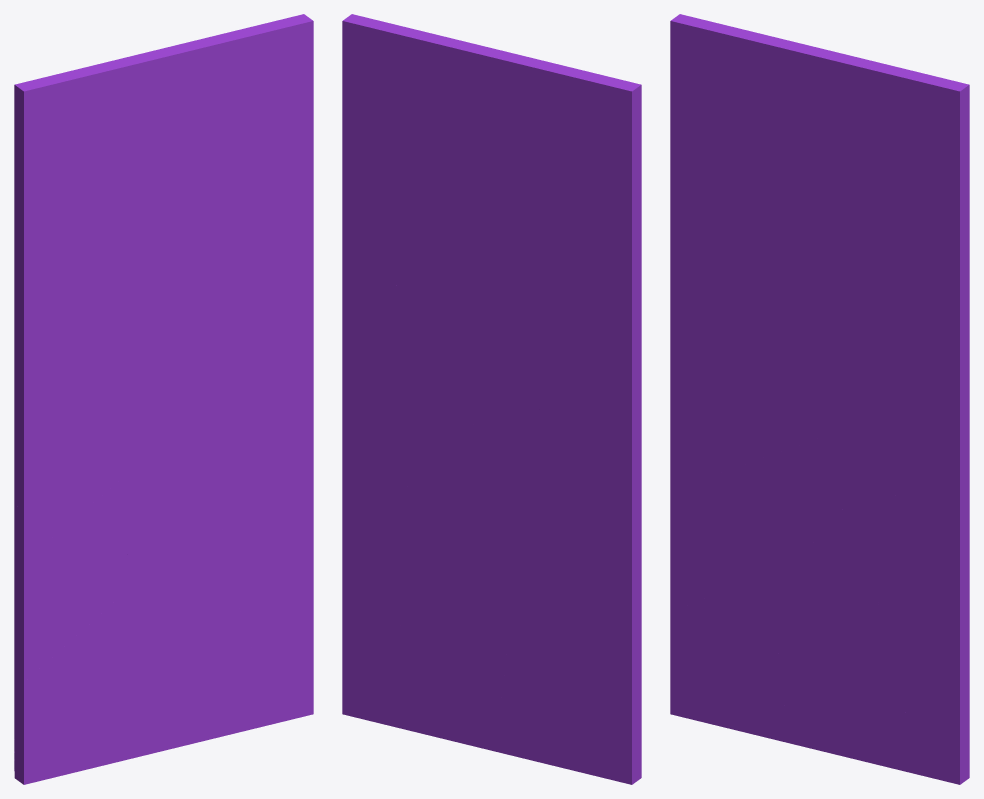
The model's file is Glass_19_chunks.fbx.
The picture shows the model from 3 angles, left to right: view 1: azimuth 30°, elevation 25°; view 2: azimuth 150°, elevation 25°; view 3: azimuth 330°, elevation 25°; orthographic projection.
Parts seen in each view (by area): view 1: Glass_19_9, Glass_19_12, Glass_19_3, Glass_19_0, Glass_19_8, Glass_19_2, Glass_19_7, Glass_19_10, Glass_19_1, Glass_19_5, Glass_19_11, Glass_19_4 (+1 smaller); view 2: Glass_19_9, Glass_19_12, Glass_19_2, Glass_19_3, Glass_19_4, Glass_19_8, Glass_19_11, Glass_19_6, Glass_19_10, Glass_19_1, Glass_19_5, Glass_19_0; view 3: Glass_19_9, Glass_19_12, Glass_19_3, Glass_19_8, Glass_19_7, Glass_19_0, Glass_19_10, Glass_19_2, Glass_19_1, Glass_19_5, Glass_19_11, Glass_19_4 (+1 smaller).
Boxes of the visible parts, box(x1,y1,x2,y2) form: Glass_19_9: box(57, 14, 313, 245); Glass_19_12: box(14, 74, 168, 383); Glass_19_3: box(122, 521, 278, 755); Glass_19_0: box(14, 385, 173, 560); Glass_19_8: box(234, 208, 313, 498); Glass_19_2: box(14, 595, 141, 784); Glass_19_7: box(221, 486, 313, 722); Glass_19_10: box(154, 184, 313, 395); Glass_19_1: box(14, 481, 133, 682); Glass_19_5: box(172, 314, 251, 537); Glass_19_11: box(14, 278, 154, 394); Glass_19_4: box(90, 435, 204, 562); Glass_19_9: box(342, 14, 588, 253); Glass_19_12: box(500, 71, 641, 376); Glass_19_2: box(495, 566, 641, 784); Glass_19_3: box(366, 523, 516, 751); Glass_19_4: box(437, 399, 610, 570); Glass_19_8: box(342, 214, 424, 512); Glass_19_11: box(480, 247, 641, 407); Glass_19_6: box(342, 487, 438, 719); Glass_19_10: box(342, 195, 480, 395); Glass_19_1: box(537, 470, 641, 675); Glass_19_5: box(407, 323, 481, 517); Glass_19_0: box(536, 378, 641, 553); Glass_19_9: box(723, 24, 969, 258); Glass_19_12: box(670, 14, 815, 313); Glass_19_3: box(769, 538, 924, 776); Glass_19_8: box(880, 278, 969, 575); Glass_19_7: box(868, 527, 969, 784); Glass_19_0: box(670, 314, 820, 490); Glass_19_10: box(800, 246, 969, 396); Glass_19_2: box(670, 573, 788, 742); Glass_19_1: box(670, 467, 779, 612); Glass_19_5: box(818, 345, 898, 557); Glass_19_11: box(670, 271, 801, 387); Glass_19_4: box(737, 438, 851, 545).
Size of the model in its own units: 483 by 1104 by 27.2.
